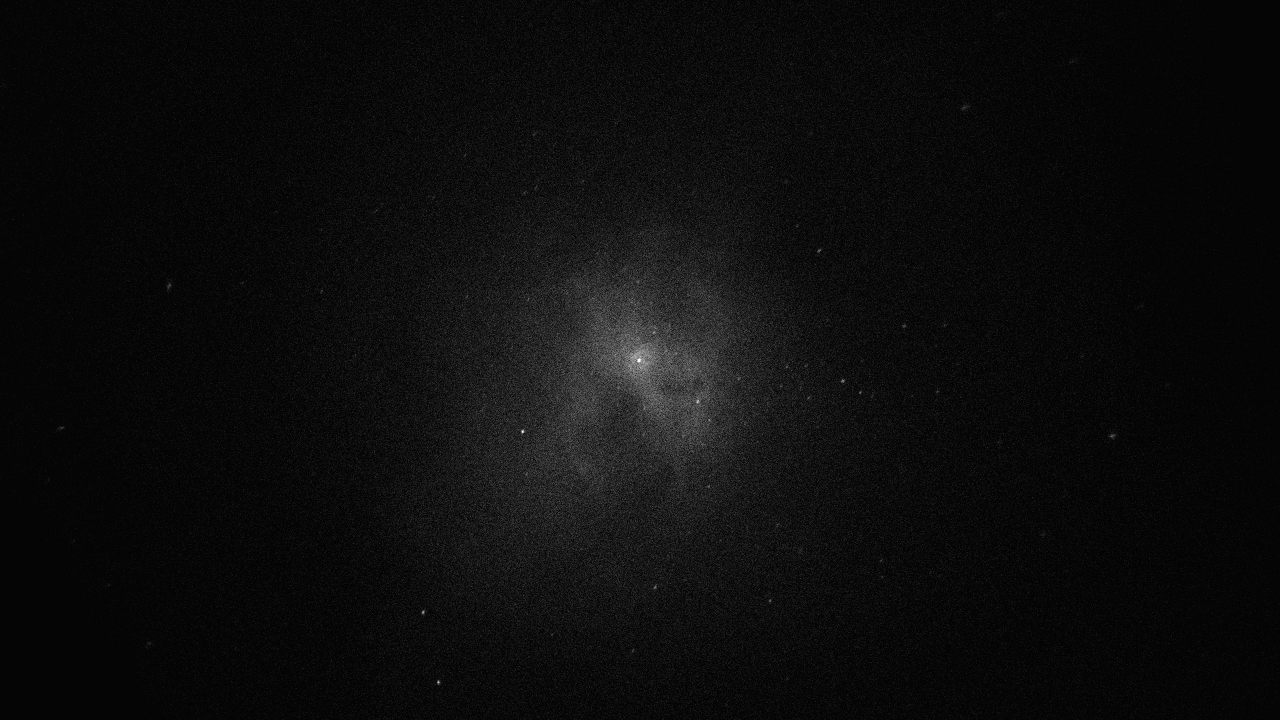Cavity: (651, 288, 695, 320), (599, 388, 642, 420), (657, 377, 705, 397), (655, 340, 668, 367), (671, 353, 689, 368), (644, 356, 650, 361), (640, 353, 644, 356)
Galaxy: (521, 254, 751, 498)
